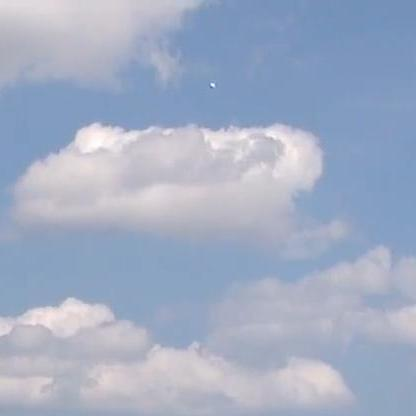golfball: (207, 81, 214, 87)
